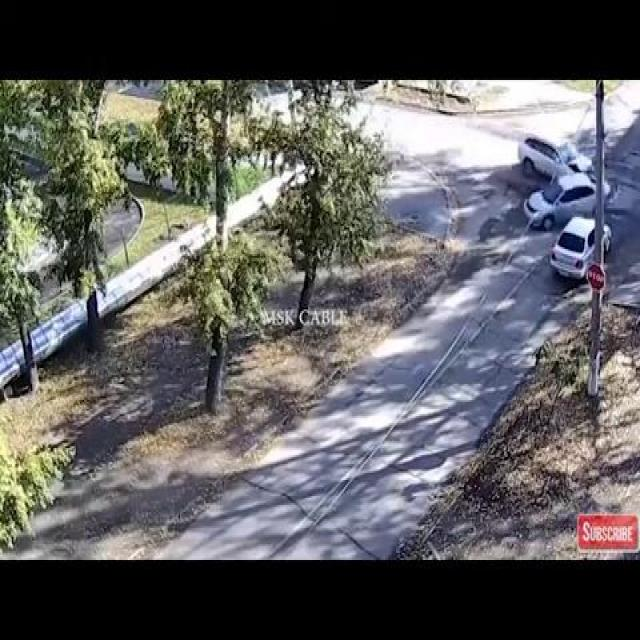accident: (506, 127, 611, 230)
